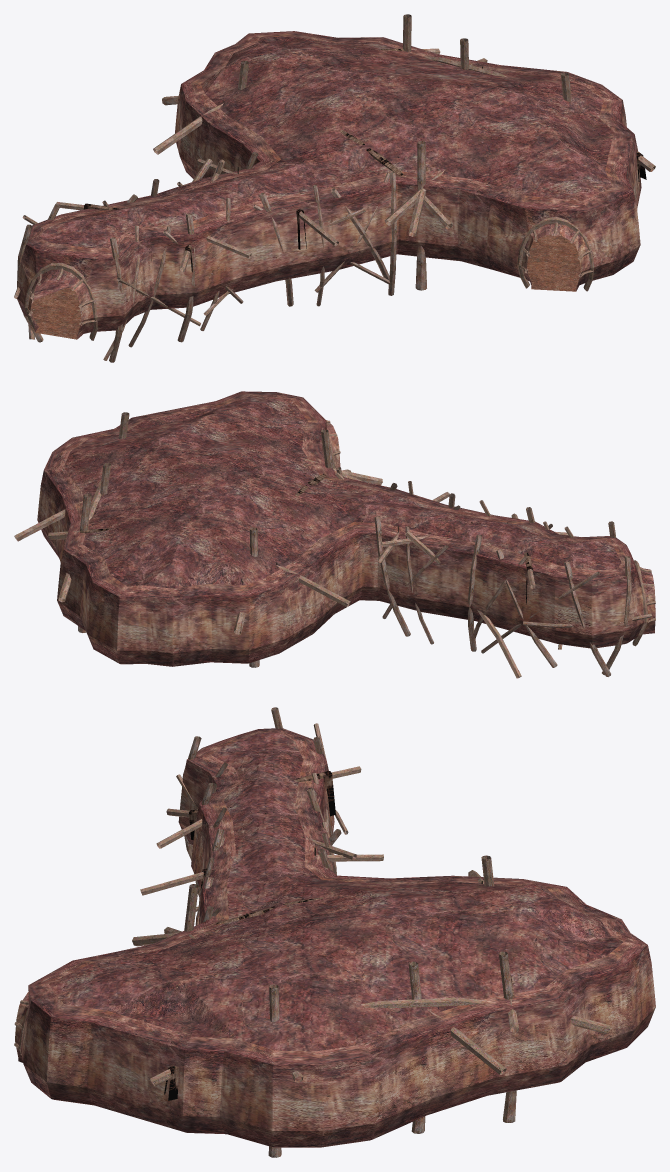
Rendered from thm_dath_night_sister_stronghold_r5_mesh_r5.fbx.
3 renders of one model, top to bottom at view 1: azimuth 30°, elevation 25°; view 2: azimuth 150°, elevation 25°; view 3: azimuth 270°, elevation 25°, orthographic. The views are drawn at different scales.
Parts seen in each view (by area): view 1: mesh_node; view 2: mesh_node; view 3: mesh_node.
Part boxes in pixels (<box>): mesh_node: <box>14,14,655,362</box>; mesh_node: <box>14,391,655,678</box>; mesh_node: <box>14,707,655,1157</box>.
Bounding box in the file's own units: 33.99 × 8.16 × 26.27.
